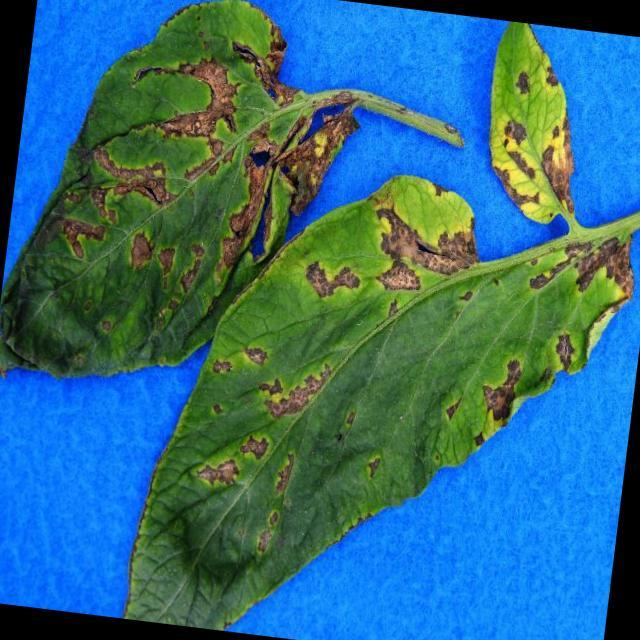Tomato leaf bacterial spot: (177, 171, 640, 640), (1, 1, 337, 391), (464, 21, 611, 231)
